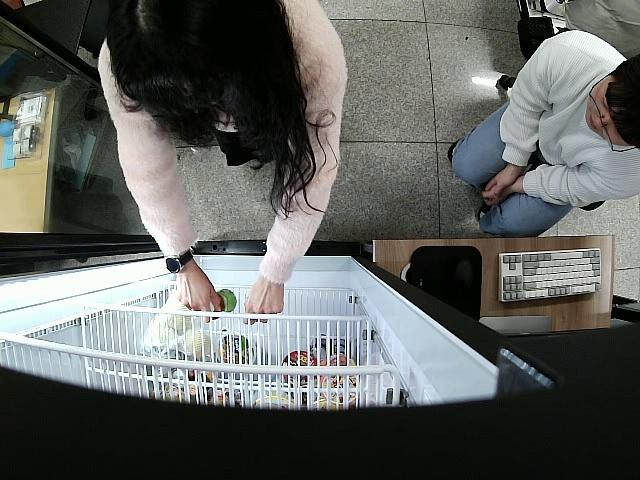00_hand: (175, 271, 222, 324), (244, 282, 285, 326)
19_17cha: (209, 289, 238, 318)
